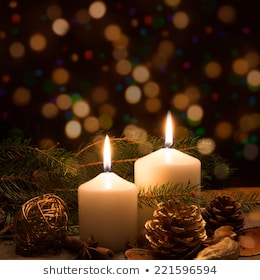Fire: (161, 109, 176, 145), (99, 135, 114, 167)
